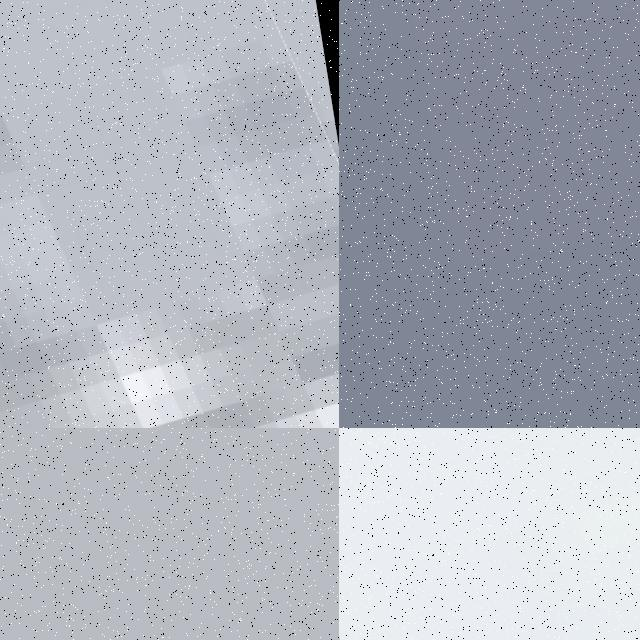0: (0, 0, 339, 428)
drone: (339, 428, 640, 640)
